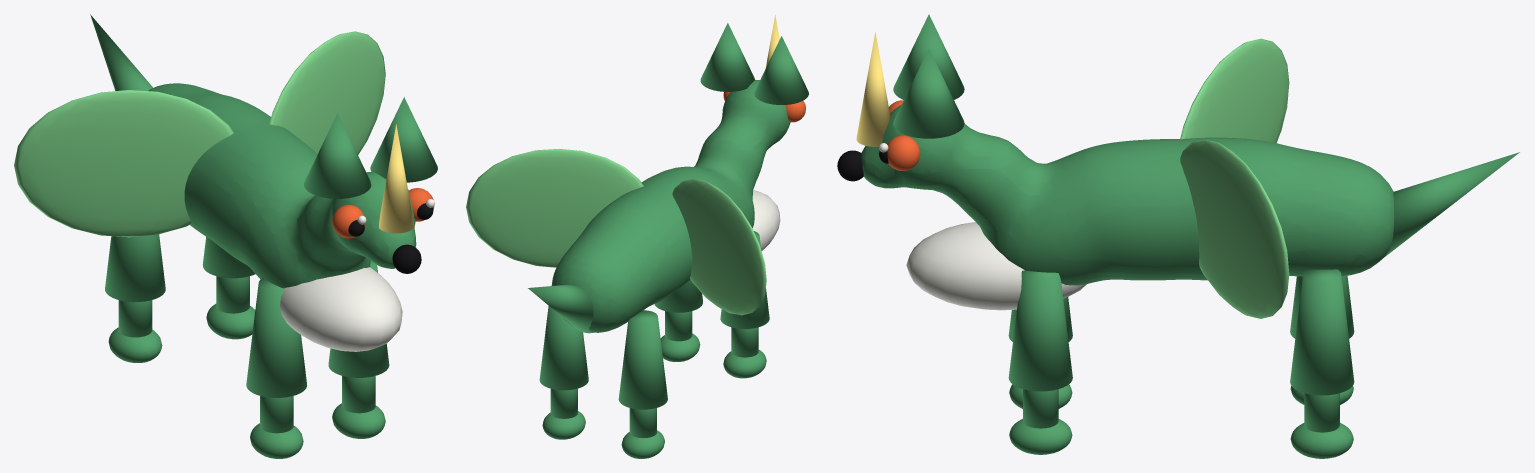
The model's file is Dragon.obj.
3 renders of one model, left to right at view 1: azimuth 30°, elevation 25°; view 2: azimuth 150°, elevation 25°; view 3: azimuth 270°, elevation 25°, orthographic. The views are drawn at different scales.
Visible parts, largest first — view 1: Dragon; view 2: Dragon; view 3: Dragon.
Part boxes in pixels (bbox=[...]): Dragon: bbox=[14, 14, 437, 458]; Dragon: bbox=[466, 15, 808, 458]; Dragon: bbox=[837, 14, 1519, 458].
Size of the model in its own units: 3.8 by 3.7 by 5.74.
